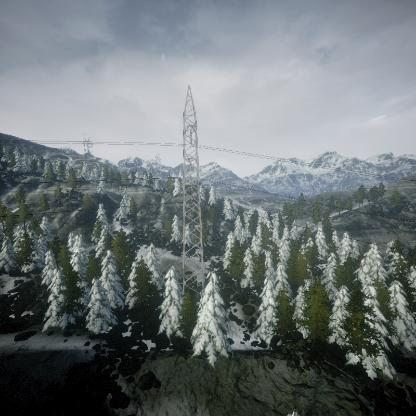tower: (176, 86, 206, 297)
